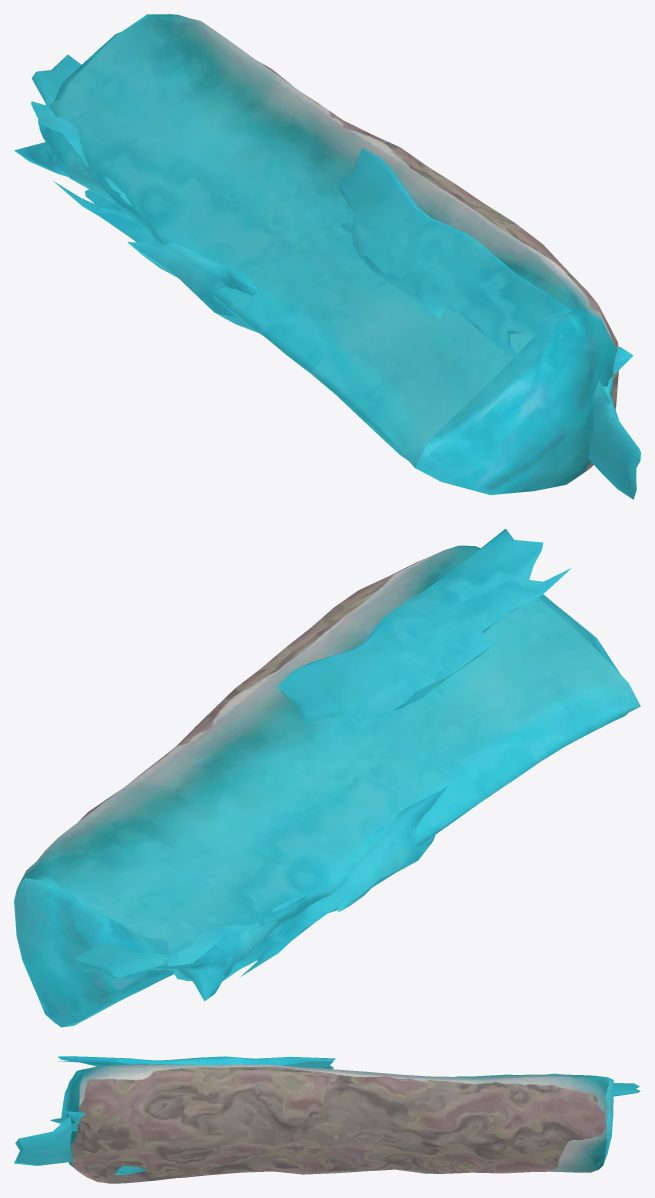
3 views of the same model, one above another, from view 1: azimuth 30°, elevation 25°; view 2: azimuth 150°, elevation 25°; view 3: azimuth 270°, elevation 25° (orthographic). The views are drawn at different scales.
Visible parts, largest first — view 1: SM_Chopped_MagicTree_log_01_LOD0; view 2: SM_Chopped_MagicTree_log_01_LOD0; view 3: SM_Chopped_MagicTree_log_01_LOD0.
Boxes of the visible parts, x1,y1,x2,y2 form: SM_Chopped_MagicTree_log_01_LOD0: (14,14,640,499); SM_Chopped_MagicTree_log_01_LOD0: (14,528,640,1027); SM_Chopped_MagicTree_log_01_LOD0: (14,1056,640,1183).
Size of the model in its own units: 0.233 by 0.1848 by 0.8848.
1 material, 1 textured.
